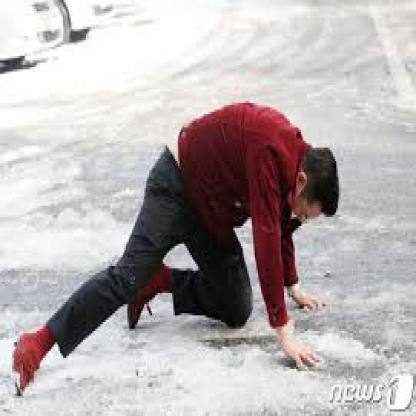Fall_Down: (11, 104, 341, 399)
